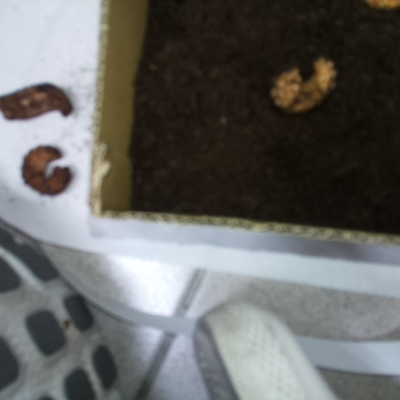eggs: (264, 54, 340, 116)
